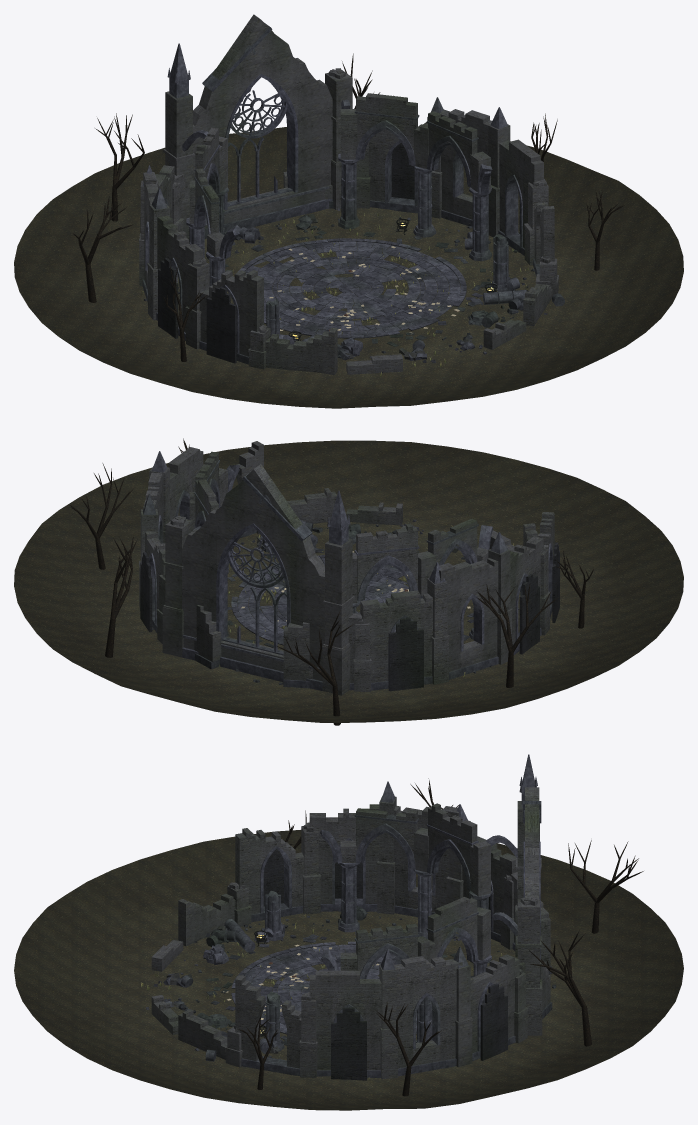
File: arena_cathedral.glb
The picture shows the model from 3 angles, top to bottom: view 1: azimuth 30°, elevation 25°; view 2: azimuth 150°, elevation 25°; view 3: azimuth 270°, elevation 25°; orthographic projection.
Parts seen in each view (by area): view 1: Arena_Ground, Arena_Masonry, Arena_Stone, Arena_Grass; view 2: Arena_Ground, Arena_Masonry, Arena_Stone; view 3: Arena_Ground, Arena_Masonry, Arena_Stone.
Part boxes in pixels (bbox=[...]): Arena_Ground: bbox=[14, 53, 683, 408]; Arena_Masonry: bbox=[139, 14, 558, 375]; Arena_Stone: bbox=[142, 23, 564, 373]; Arena_Grass: bbox=[141, 213, 528, 376]; Arena_Ground: bbox=[14, 438, 683, 725]; Arena_Masonry: bbox=[139, 441, 559, 695]; Arena_Stone: bbox=[143, 451, 552, 691]; Arena_Ground: bbox=[14, 778, 683, 1110]; Arena_Masonry: bbox=[151, 787, 550, 1080]; Arena_Stone: bbox=[146, 754, 555, 1077].
Bounding box in the file's own units: 60 × 20.55 × 60.
Materials: 7 (4 with a texture image).
